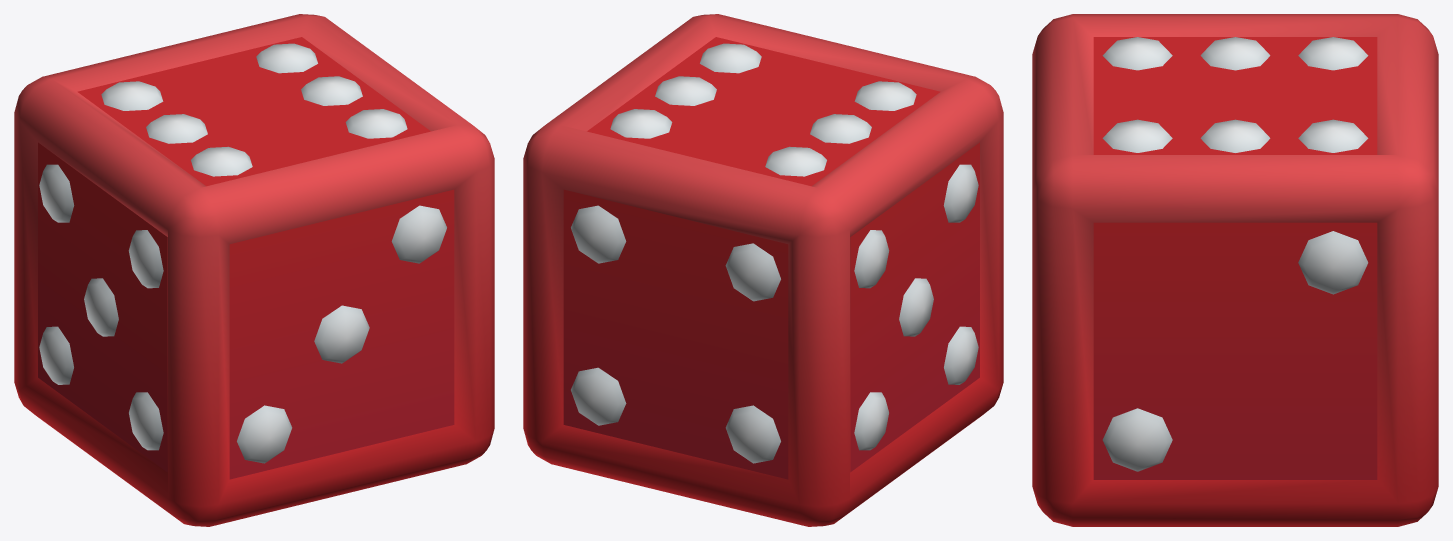
Rendered from D6_B_red.glb.
3 renders of one model, left to right at view 1: azimuth 30°, elevation 25°; view 2: azimuth 150°, elevation 25°; view 3: azimuth 270°, elevation 25°, orthographic. The views are drawn at different scales.
Visible parts, largest first — view 1: D6_B_red; view 2: D6_B_red; view 3: D6_B_red.
Part boxes in pixels (left/top/right/bottom): D6_B_red: left=14, top=14, right=494, bottom=526; D6_B_red: left=523, top=14, right=1003, bottom=526; D6_B_red: left=1032, top=14, right=1438, bottom=526.
Size of the model in its own units: 0.75 by 0.75 by 0.75.
1 material, 1 textured.
